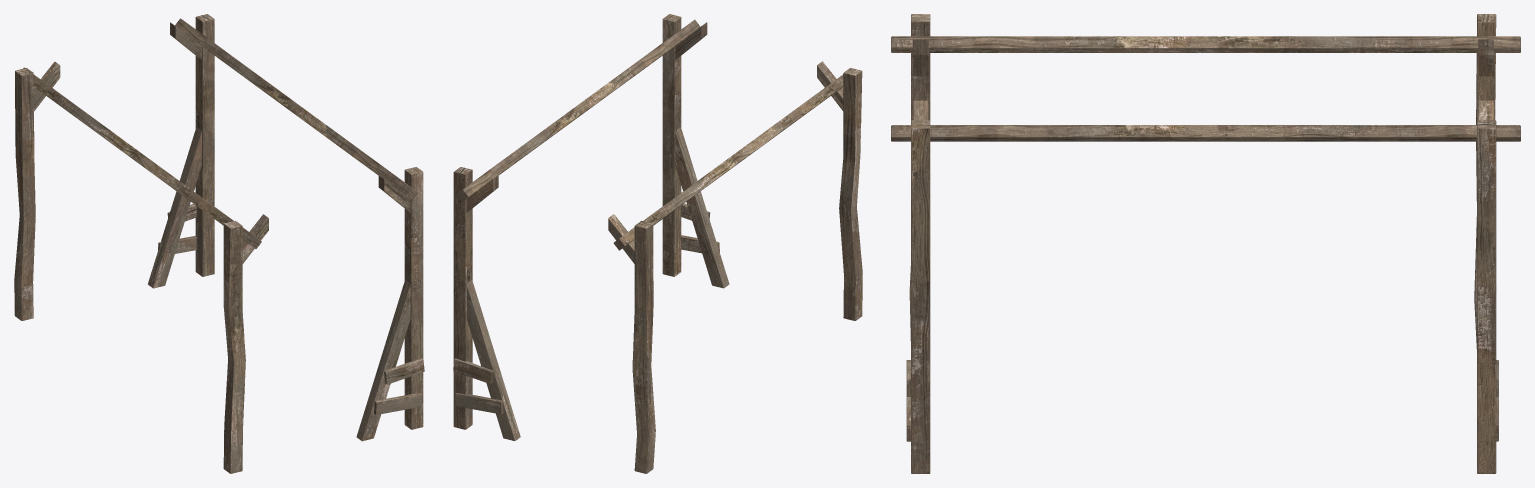
File: SM_Market_Stand_01.fbx
The picture shows the model from 3 angles, left to right: view 1: azimuth 30°, elevation 25°; view 2: azimuth 150°, elevation 25°; view 3: azimuth 270°, elevation 25°; orthographic projection. The views are drawn at different scales.
Parts seen in each view (by area): view 1: SM_Market_Stand_01_LOD0; view 2: SM_Market_Stand_01_LOD0; view 3: SM_Market_Stand_01_LOD0.
Part boxes in pixels (left/top/right/bottom): SM_Market_Stand_01_LOD0: left=14, top=14, right=424, bottom=473; SM_Market_Stand_01_LOD0: left=453, top=14, right=862, bottom=473; SM_Market_Stand_01_LOD0: left=891, top=14, right=1520, bottom=473.
Size of the model in its own units: 215 by 445 by 272.
Materials: 1 (1 with a texture image).
